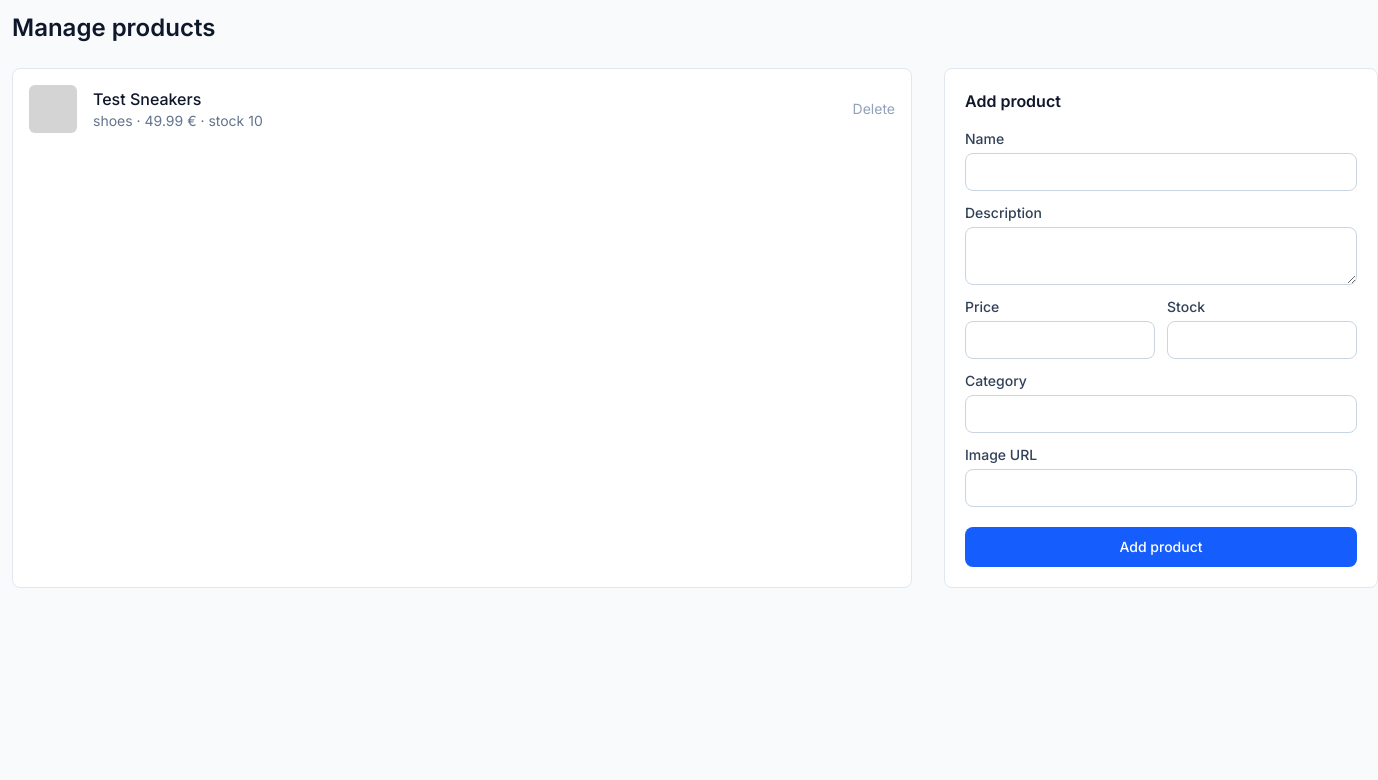
Test: AdminProductsPage › shows an inline error when deleting a product fails
The image size is (1378, 780).
Click the button "Delete" at [874, 109], box [853,99,895,119]
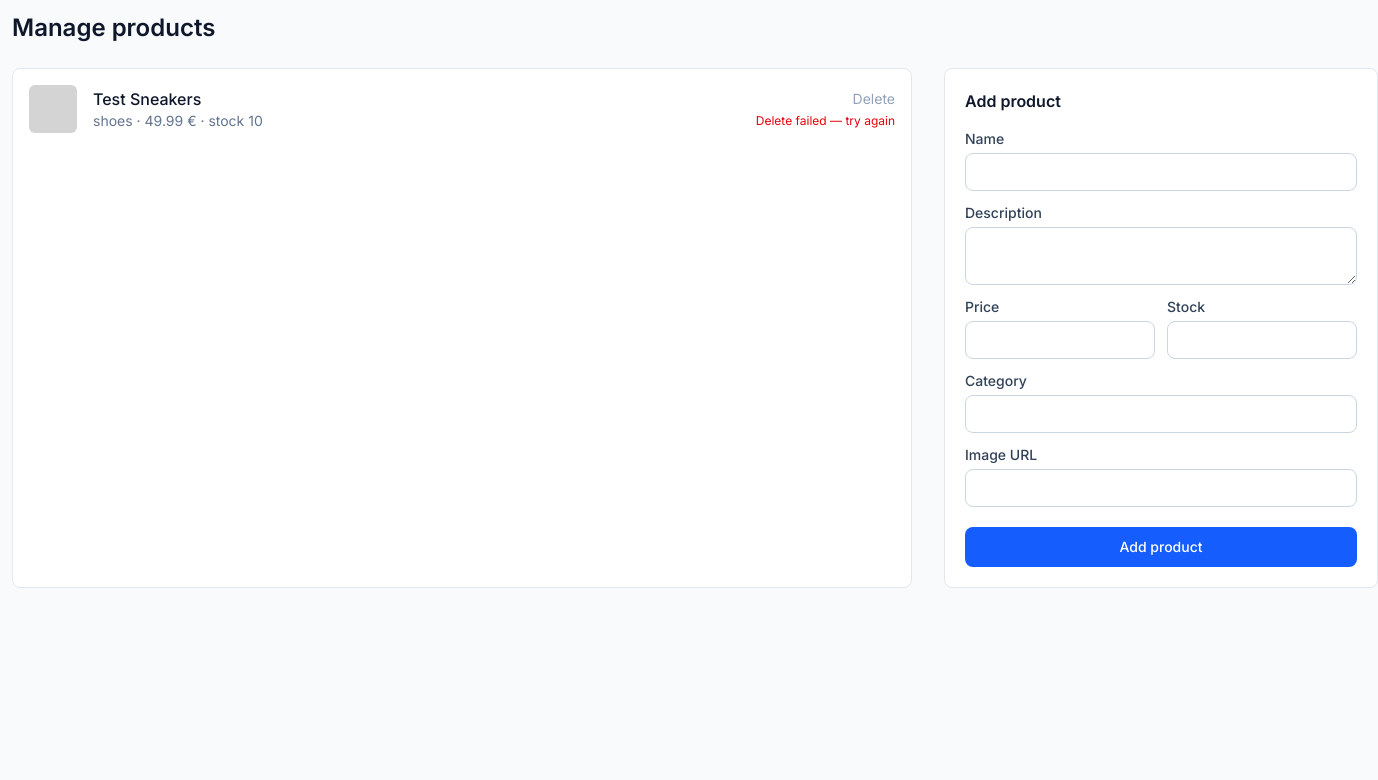
Expected: the text "Delete failed — try again" is shown, [756,113,895,129]
